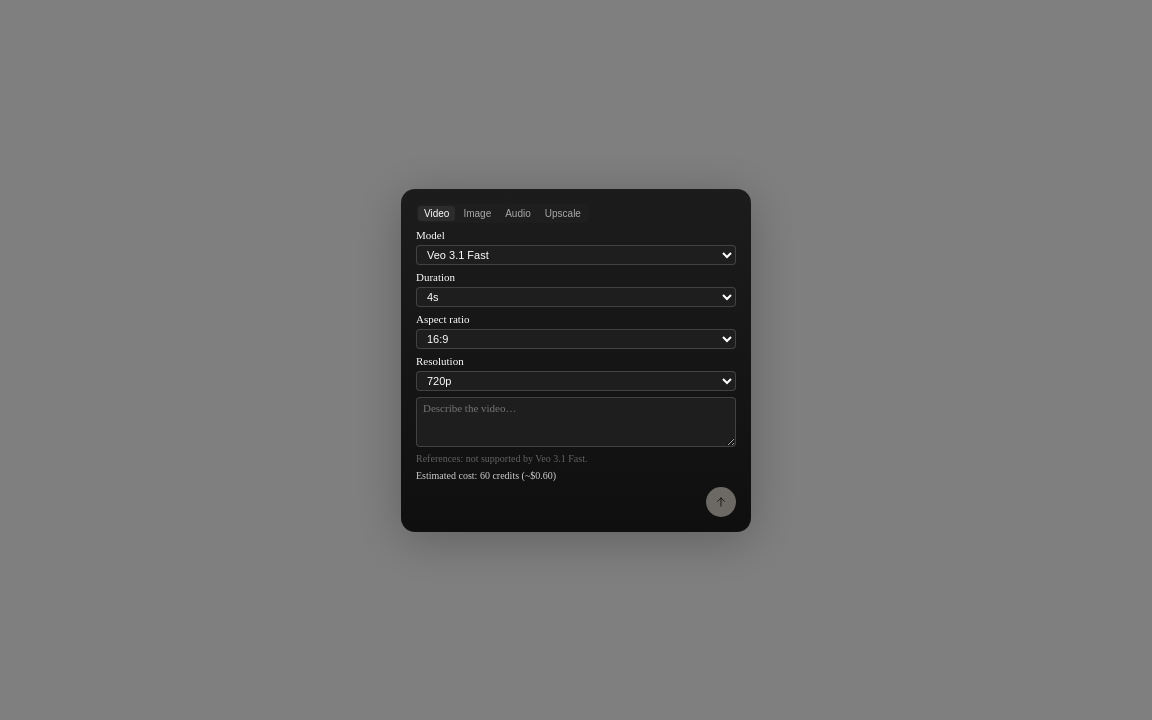
Test: Generate (video, valid, key): addPlaceholder + startJob with endpoint, built input, and cost estimate
Type "a neon city at night" into the text box with test id "gen-prompt" at (576, 422), box [416,396,736,446]
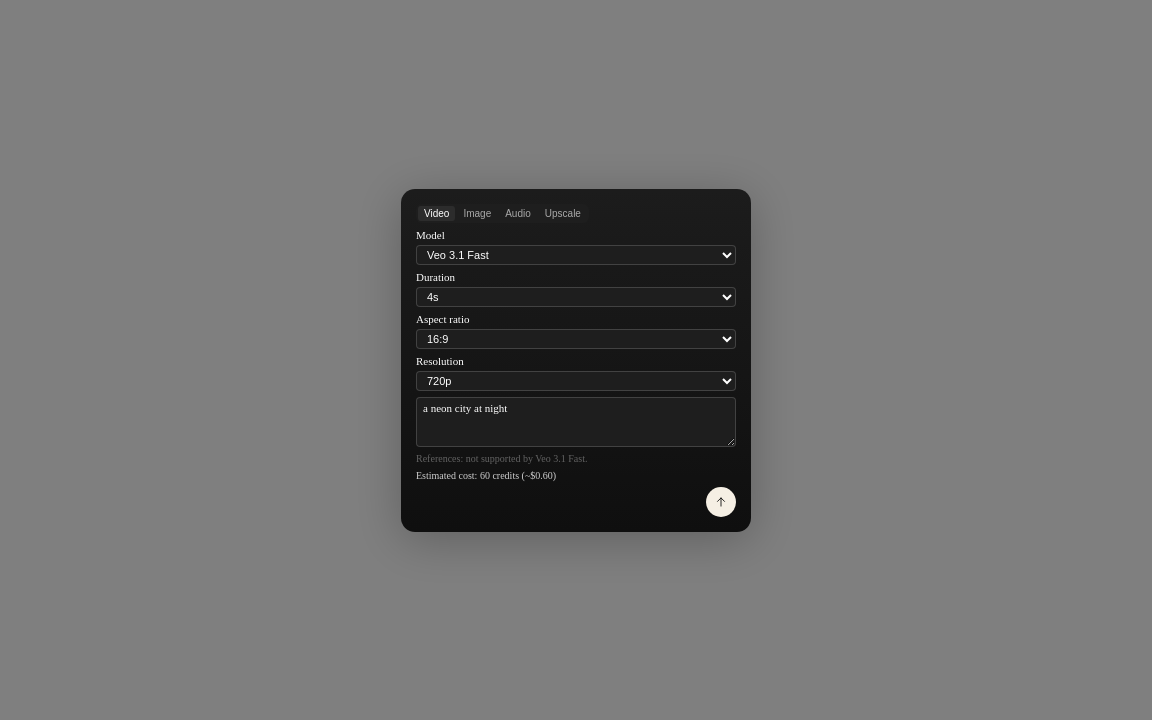
Result: the button with test id "gen-submit" is enabled
Click the button with test id "gen-submit" at (721, 502), box [706,486,736,516]
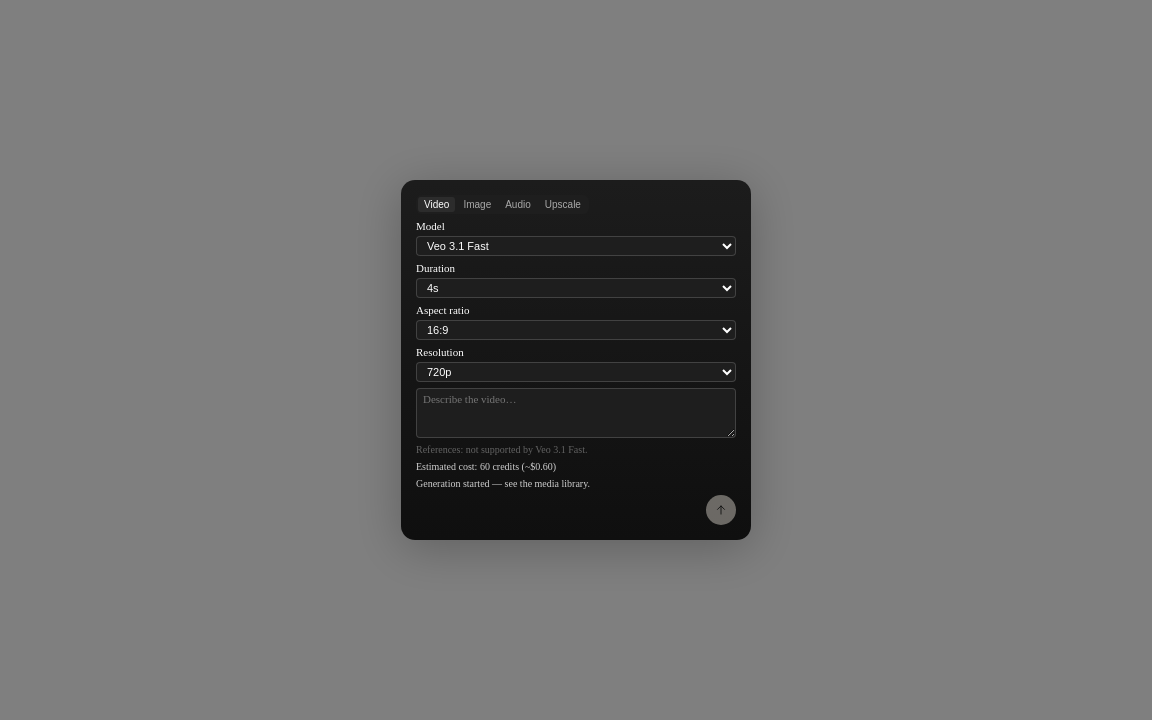
Result: the text with test id "gen-status" shows "Generation started" at [416,478,590,489]
Result: the text box with test id "gen-prompt" is empty at [416,388,736,438]
